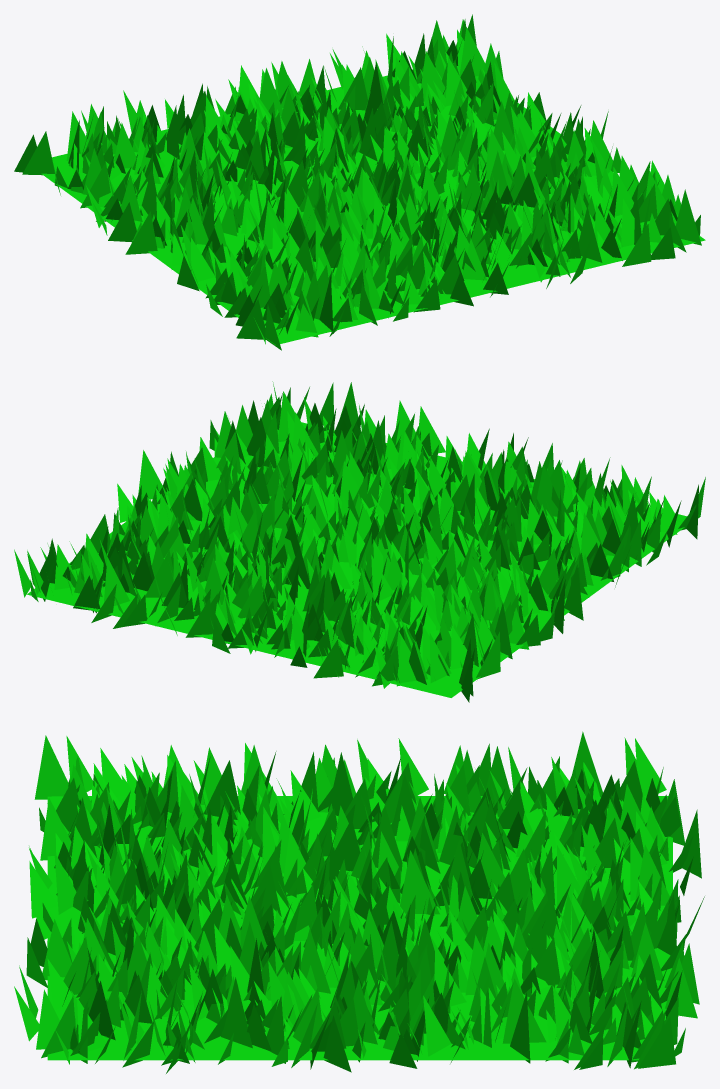
Rendered from grass2.fbx.
The picture shows the model from 3 angles, top to bottom: view 1: azimuth 30°, elevation 25°; view 2: azimuth 150°, elevation 25°; view 3: azimuth 270°, elevation 25°; orthographic projection. The views are drawn at different scales.
Parts seen in each view (by area): view 1: Plane, Plane|Plane.001|Dupli|355, Plane|Plane.001|Dupli|961, Plane|Plane.001|Dupli|443, Plane|Plane.001|Dupli|545, Plane|Plane.001|Dupli|707, Plane|Plane.001|Dupli|450, Plane|Plane.001|Dupli|803, Plane|Plane.001|Dupli|674, Plane|Plane.001|Dupli|650, Plane|Plane.001|Dupli|815, Plane|Plane.001|Dupli|541 (+8 smaller); view 2: Plane, Plane|Plane.001|Dupli|88, Plane|Plane.001|Dupli|122, Plane|Plane.001|Dupli|892, Plane|Plane.001|Dupli|631, Plane|Plane.001|Dupli|993, Plane|Plane.001|Dupli|443, Plane|Plane.001|Dupli|215, Plane|Plane.001|Dupli|863, Plane|Plane.001|Dupli|761, Plane|Plane.001|Dupli|855, Plane|Plane.001|Dupli|829 (+7 smaller); view 3: Plane, Plane|Plane.001|Dupli|241, Plane|Plane.001|Dupli|188, Plane|Plane.001|Dupli|812, Plane|Plane.001|Dupli|225, Plane|Plane.001|Dupli|550, Plane|Plane.001|Dupli|481, Plane|Plane.001|Dupli|567, Plane|Plane.001|Dupli|400, Plane|Plane.001|Dupli|961, Plane|Plane.001|Dupli|548, Plane|Plane.001|Dupli|707 (+76 smaller).
Boxes of the visible parts, box(x1,y1,x2,y2) form: Plane: box(41, 66, 705, 345); Plane|Plane.001|Dupli|355: box(22, 131, 54, 175); Plane|Plane.001|Dupli|961: box(675, 189, 701, 245); Plane|Plane.001|Dupli|443: box(125, 211, 157, 254); Plane|Plane.001|Dupli|545: box(236, 299, 265, 339); Plane|Plane.001|Dupli|707: box(578, 206, 602, 262); Plane|Plane.001|Dupli|450: box(459, 27, 485, 76); Plane|Plane.001|Dupli|803: box(108, 202, 136, 242); Plane|Plane.001|Dupli|674: box(461, 163, 485, 212); Plane|Plane.001|Dupli|650: box(622, 224, 651, 266); Plane|Plane.001|Dupli|815: box(420, 51, 446, 101); Plane|Plane.001|Dupli|541: box(191, 237, 215, 282); Plane: box(27, 422, 686, 697); Plane|Plane.001|Dupli|88: box(145, 550, 173, 597); Plane|Plane.001|Dupli|122: box(138, 450, 167, 499); Plane|Plane.001|Dupli|892: box(313, 640, 343, 678); Plane|Plane.001|Dupli|631: box(535, 464, 558, 516); Plane|Plane.001|Dupli|993: box(104, 557, 129, 605); Plane|Plane.001|Dupli|443: box(564, 564, 583, 620); Plane|Plane.001|Dupli|215: box(476, 631, 500, 678); Plane|Plane.001|Dupli|863: box(185, 598, 213, 637); Plane|Plane.001|Dupli|761: box(429, 633, 451, 682); Plane|Plane.001|Dupli|855: box(396, 635, 425, 686); Plane|Plane.001|Dupli|829: box(539, 548, 558, 594); Plane: box(47, 796, 672, 1060); Plane|Plane.001|Dupli|241: box(34, 735, 68, 799); Plane|Plane.001|Dupli|188: box(400, 850, 439, 914); Plane|Plane.001|Dupli|812: box(221, 977, 252, 1048); Plane|Plane.001|Dupli|225: box(502, 978, 546, 1043); Plane|Plane.001|Dupli|550: box(638, 1017, 675, 1068); Plane|Plane.001|Dupli|481: box(203, 760, 240, 819); Plane|Plane.001|Dupli|567: box(40, 798, 71, 860); Plane|Plane.001|Dupli|400: box(42, 919, 71, 980); Plane|Plane.001|Dupli|961: box(41, 996, 75, 1058); Plane|Plane.001|Dupli|548: box(301, 928, 330, 993); Plane|Plane.001|Dupli|707: box(63, 937, 91, 994).
Size of the model in its own units: 217 by 28.37 by 221.
